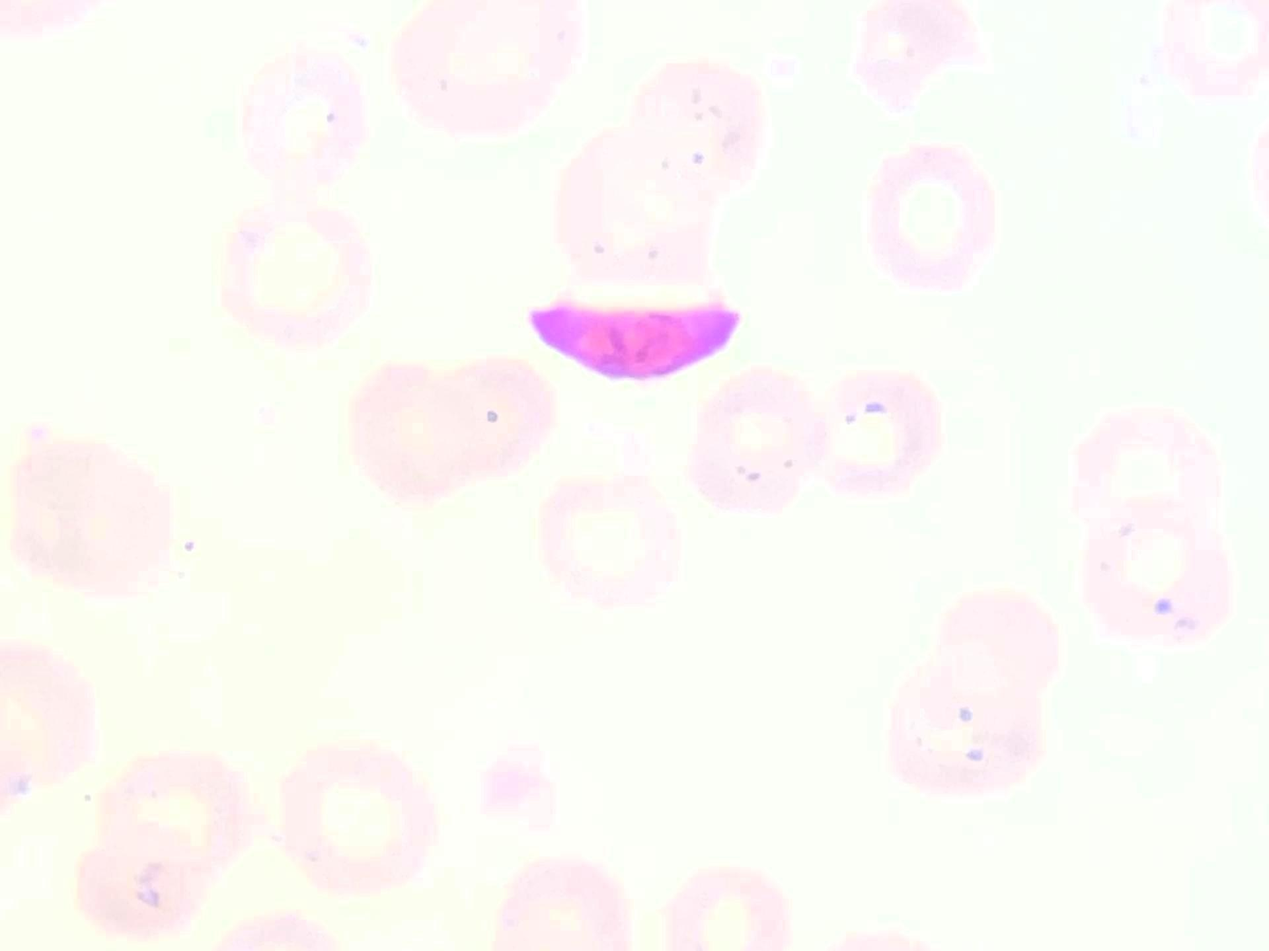Infected: (530, 289, 742, 380)
Uninfected: (390, 0, 585, 140), (2, 428, 165, 593), (547, 134, 713, 287), (281, 741, 438, 897), (218, 197, 373, 350), (1079, 488, 1237, 638), (88, 747, 258, 878), (682, 369, 824, 518), (532, 476, 683, 612), (886, 663, 1042, 793), (864, 142, 1005, 285), (623, 58, 766, 198), (342, 357, 482, 497), (1071, 405, 1223, 528), (236, 52, 365, 191), (76, 820, 215, 934), (0, 638, 104, 789), (935, 587, 1063, 708), (810, 372, 941, 490), (431, 356, 551, 481), (487, 858, 640, 951), (664, 863, 788, 951), (1158, 0, 1269, 98)
